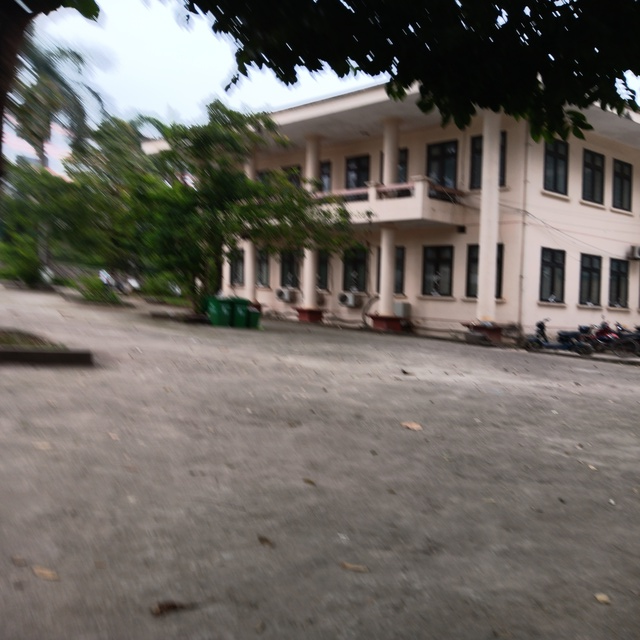thungrac: (207, 297, 230, 328), (226, 299, 246, 332), (244, 307, 264, 339)
